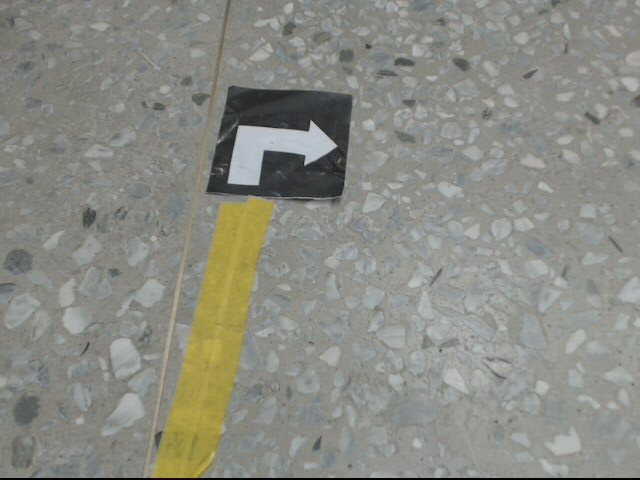right: (205, 86, 353, 200)
